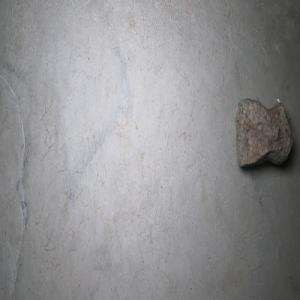Rock: (234, 94, 294, 168)
